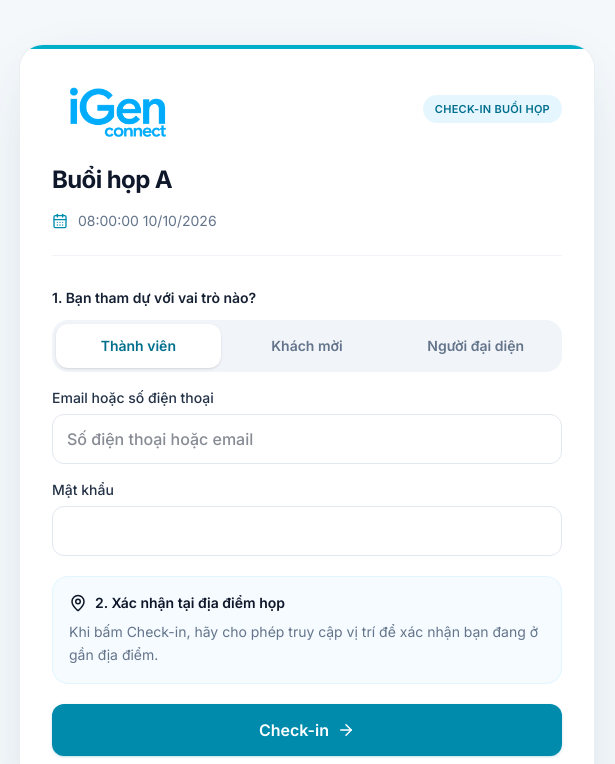
it: GPS denial blocks submission and allows a retry with a fresh location
In the field named "Email tài khoản": (307, 439) [52,414,562,464], type "an@example.com"
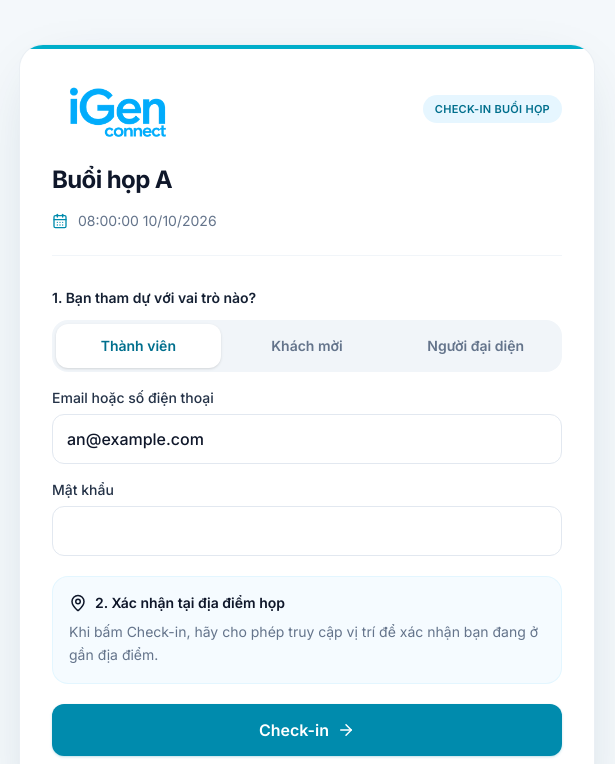
In the password field labelled "Mật khẩu": (307, 531) [52,506,562,556], type "secret"
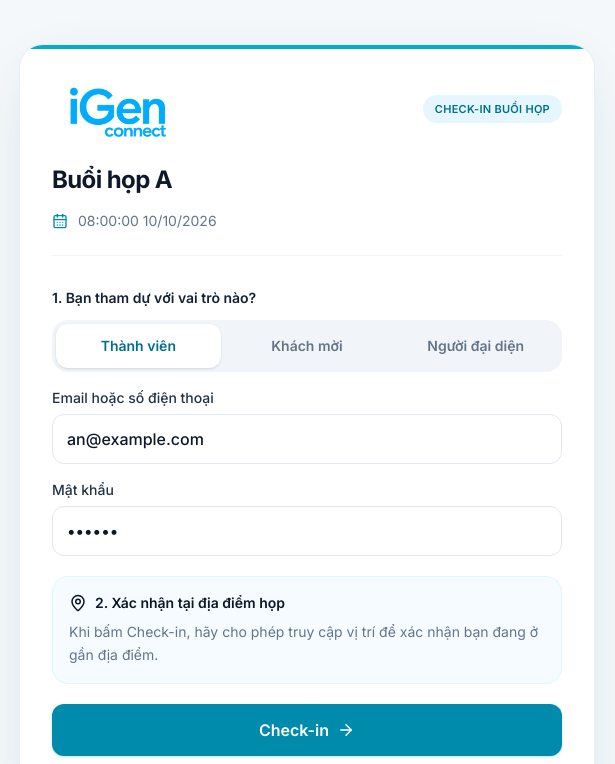
Click the button "Check-in": (307, 730) [52,704,562,756]
(page scrolled)
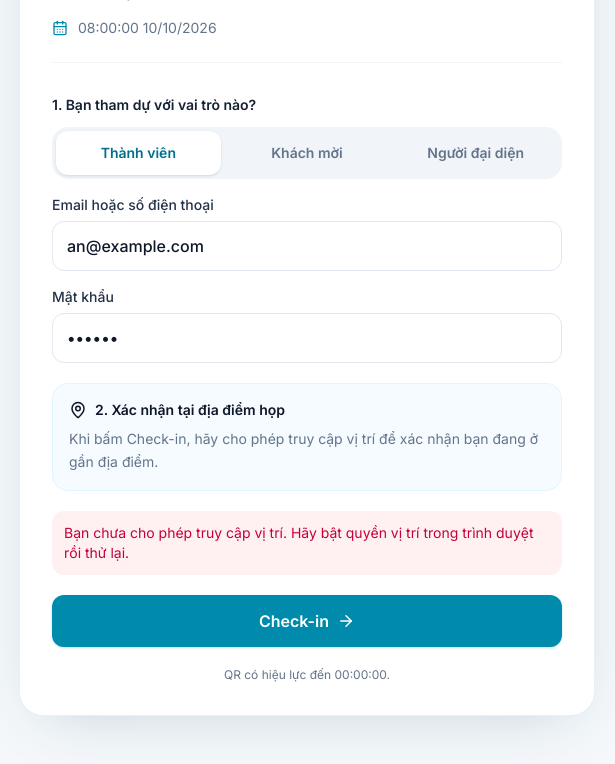
Expected: the message is shown, [52,510,562,574]
Click the button "Check-in": (307, 620) [52,594,562,646]
(page scrolled)
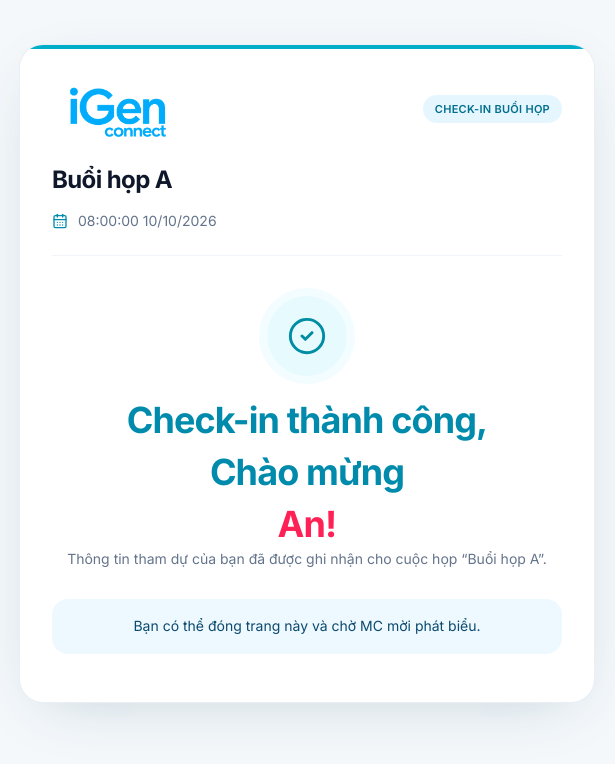
Expected: the heading "Check-in thành công, Chào mừng An!" is shown, [127,398,487,546]
